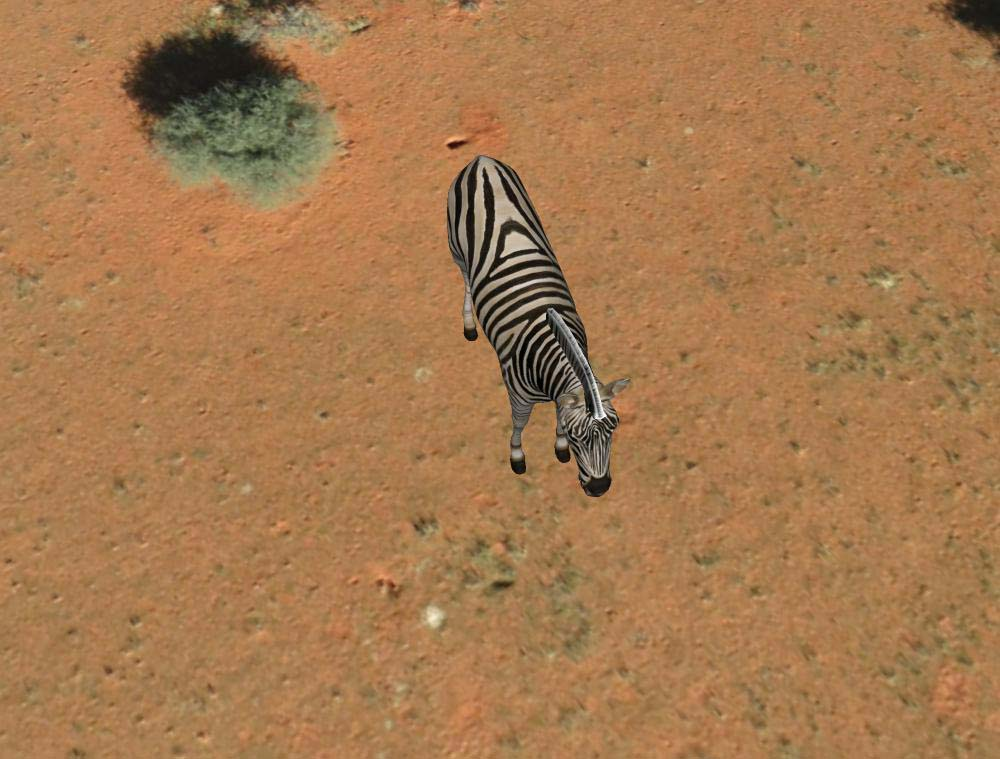zebra: (444, 148, 621, 518)
